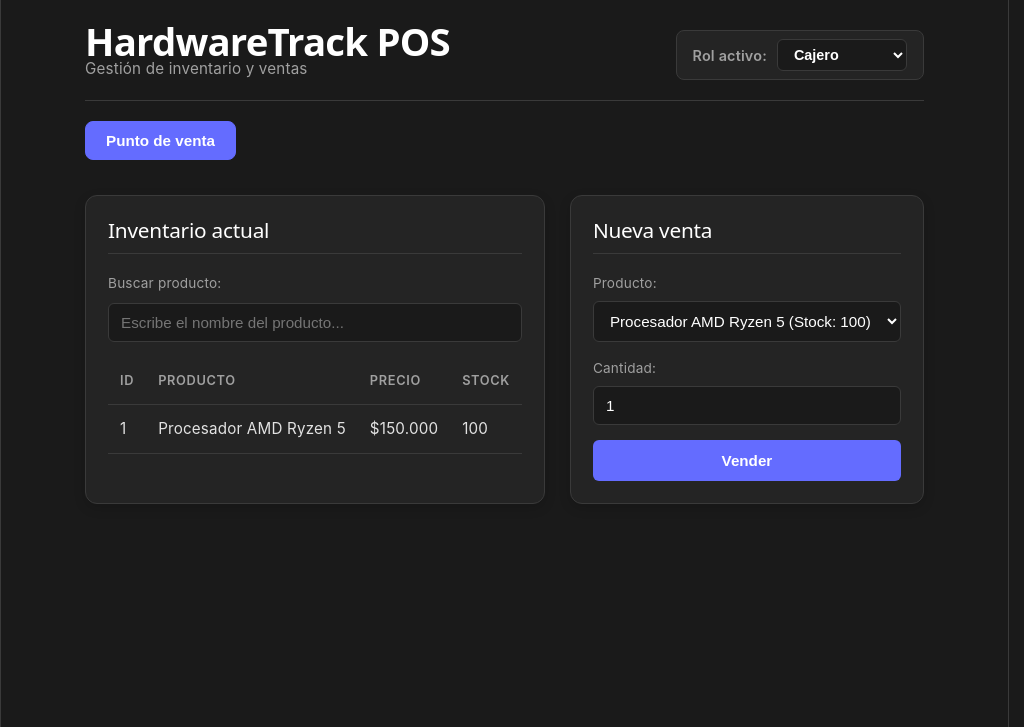
Test case: Aplicación POS HardwareTrack › procesa el ingreso o actualizacion de stock exitosamente
Expected: the text "Procesador AMD Ryzen 5" is shown, left=146, top=405, right=358, bottom=453
Select "Gerente" in the dropdown labelled "Rol activo:" at (842, 55), box left=777, top=39, right=907, bottom=71
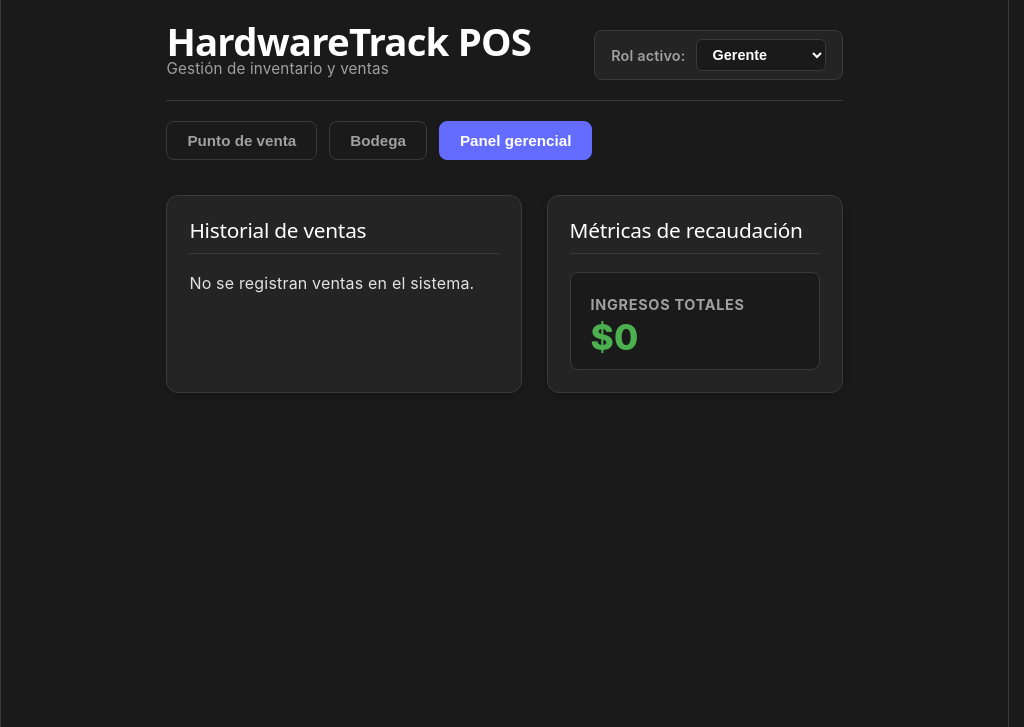
Click the button "Bodega" at (378, 141), box left=329, top=121, right=427, bottom=160
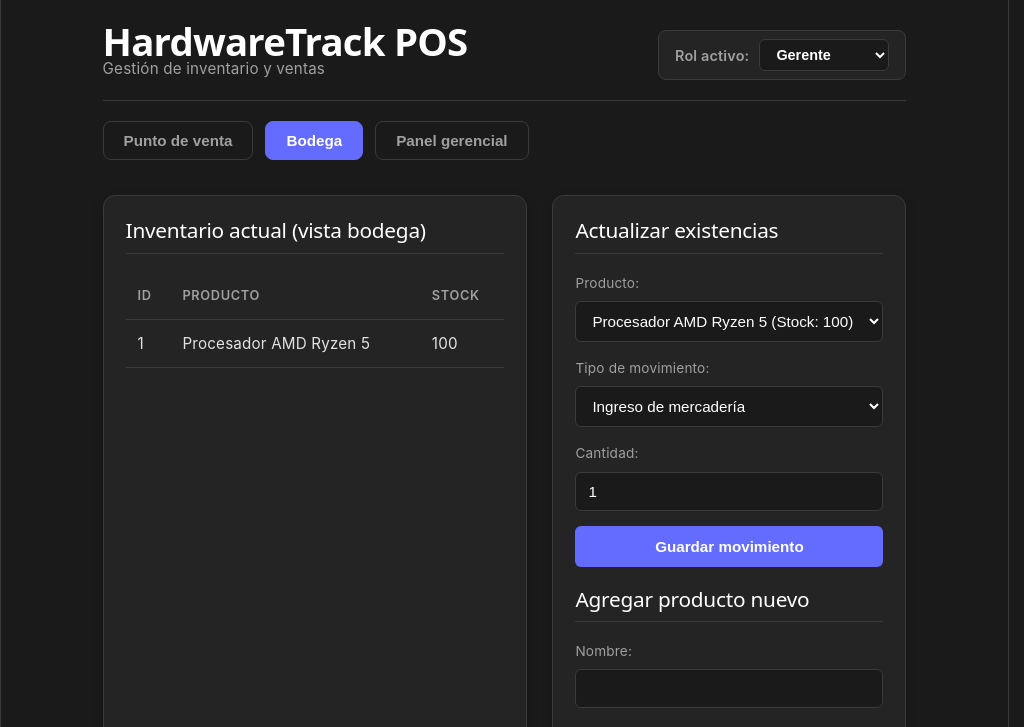
Replace the text in the number field labelled "Cantidad:" with "5" at (729, 491), box left=575, top=472, right=883, bottom=511
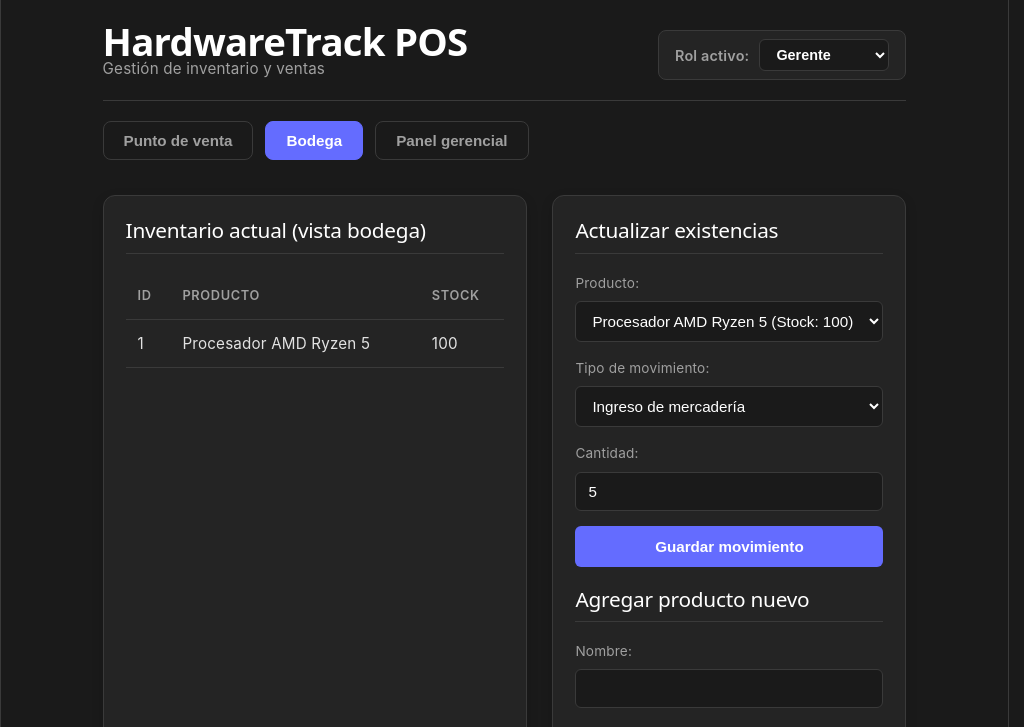
Click the button "Guardar movimiento" at (729, 546), box left=575, top=526, right=883, bottom=567
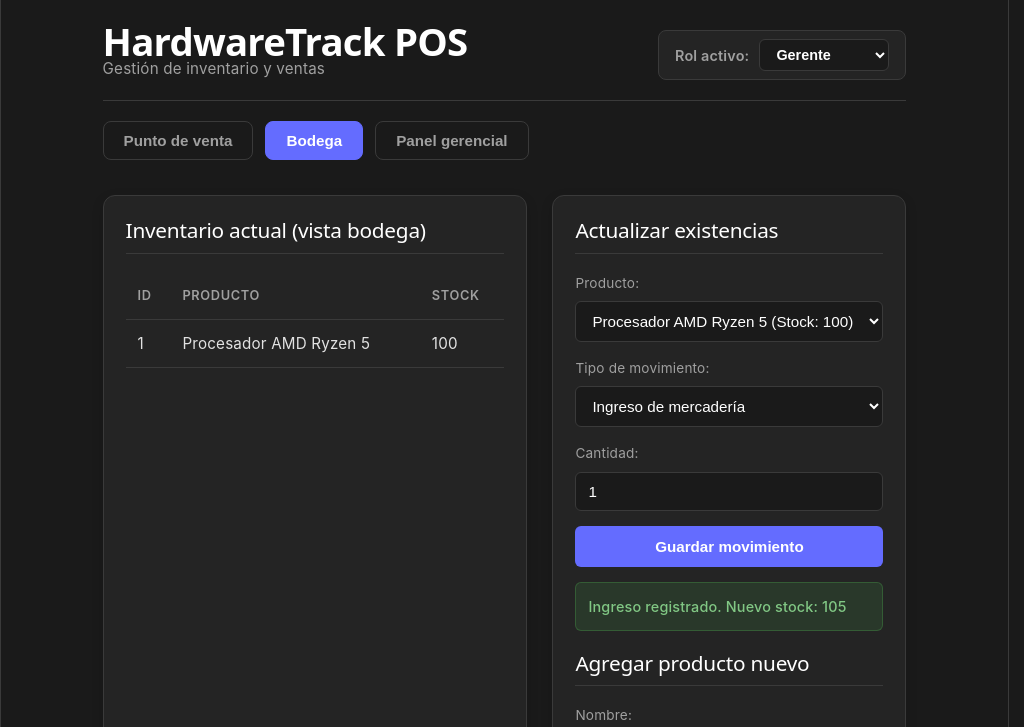
Result: the text "Ingreso registrado. Nuevo stock: 105" is shown at left=575, top=582, right=883, bottom=631
